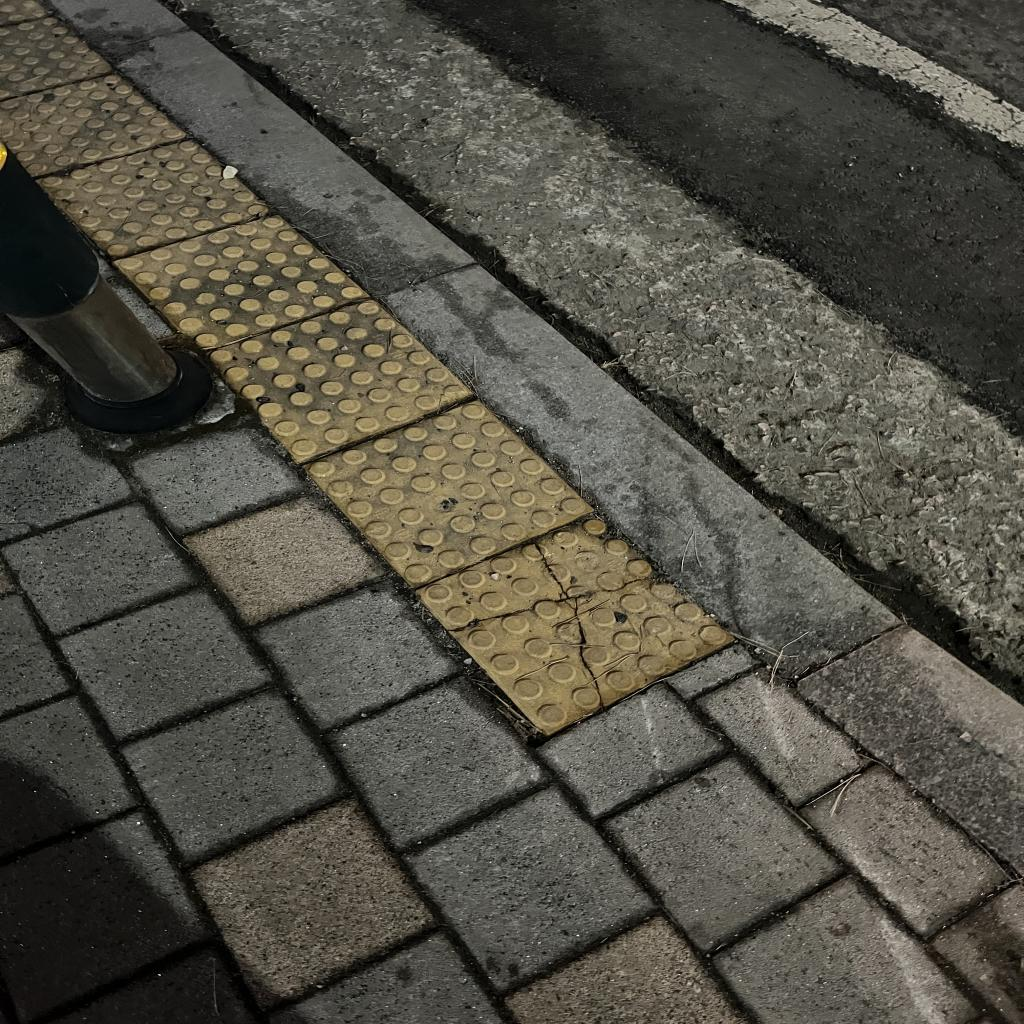Stop block broken: (418, 476, 734, 757)
Stop block normal: (304, 371, 591, 606), (209, 269, 472, 477), (115, 194, 368, 364), (38, 122, 272, 271)
